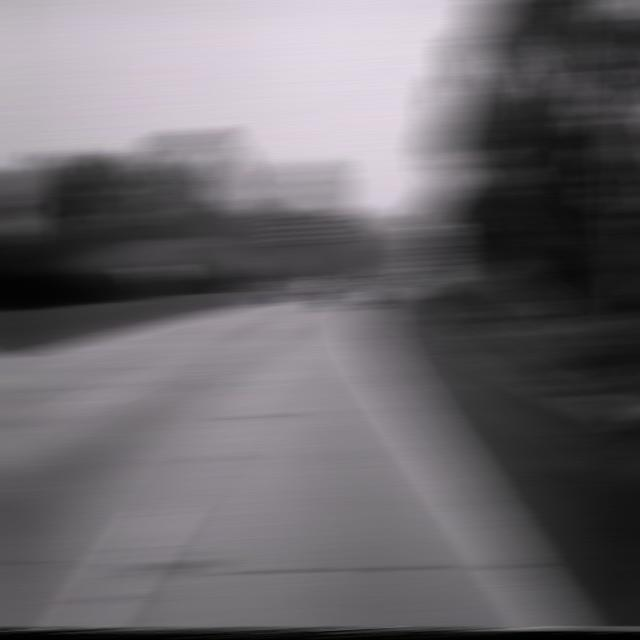speedLimit65: (410, 222, 452, 264)
